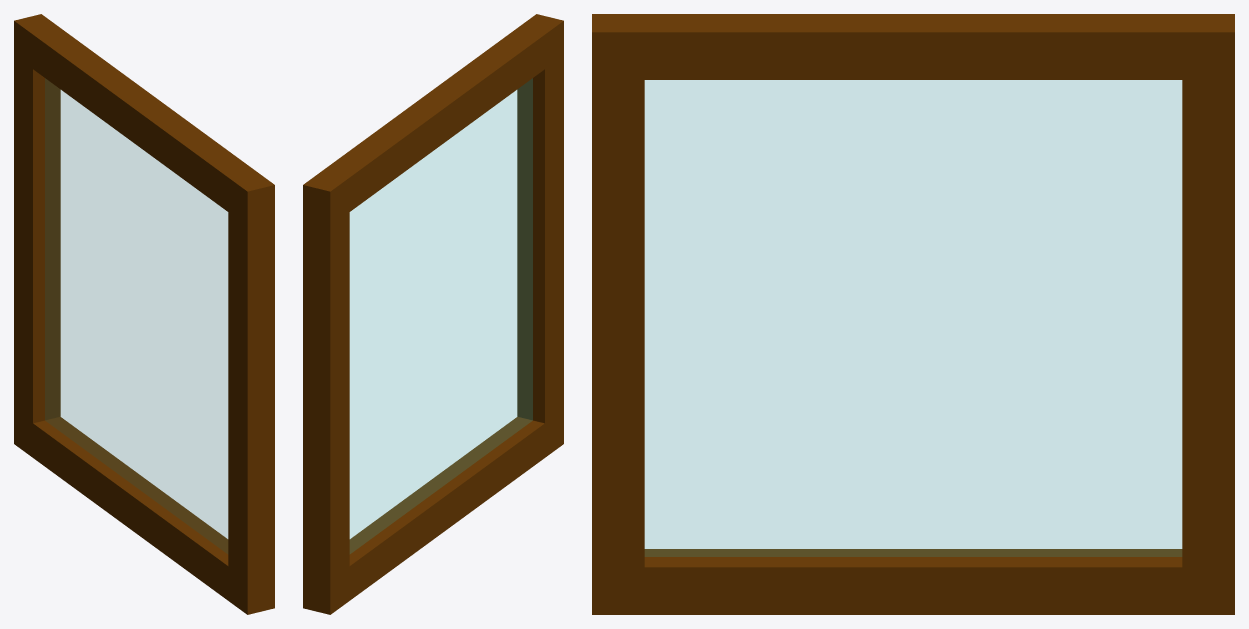
Rendered from test-window.obj.
3 renders of one model, left to right at view 1: azimuth 30°, elevation 25°; view 2: azimuth 150°, elevation 25°; view 3: azimuth 270°, elevation 25°, orthographic. The views are drawn at different scales.
Parts seen in each view (by area): view 1: Cube.001, Cube; view 2: Cube.001, Cube; view 3: Cube.001, Cube.
Boxes of the visible parts, bbox=[...] form: Cube.001: bbox=[45, 78, 227, 553]; Cube: bbox=[14, 14, 274, 614]; Cube.001: bbox=[350, 78, 532, 553]; Cube: bbox=[303, 14, 563, 614]; Cube.001: bbox=[645, 80, 1181, 556]; Cube: bbox=[592, 14, 1234, 614].
Size of the model in its own units: 0.1356 by 2 by 2.
Materials: 2 (2 with a texture image).
